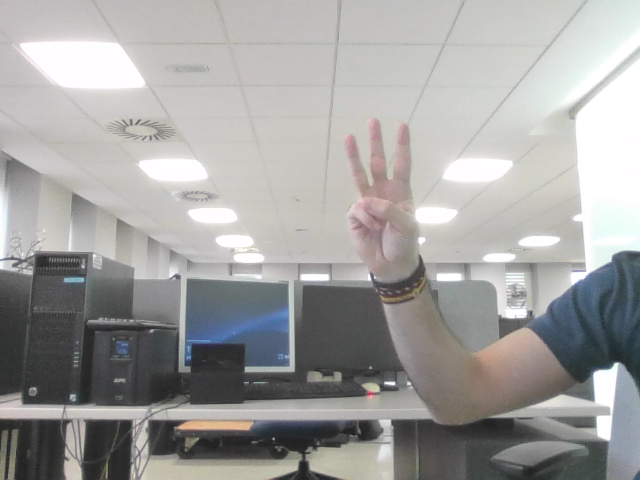3Dedos: (352, 130, 404, 244)
